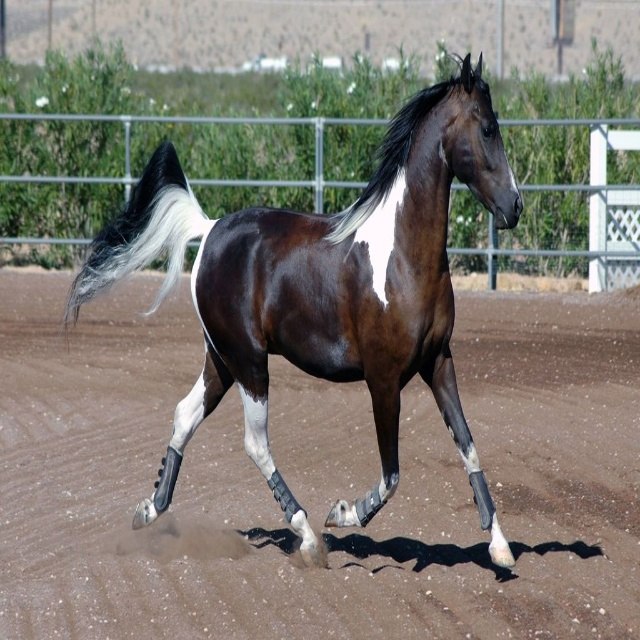Horse: (55, 50, 523, 568)
